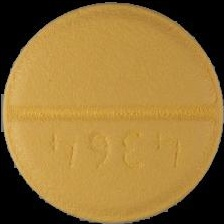0172-4364: (0, 0, 224, 224)
